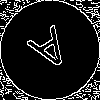A: (25, 25, 79, 82)
